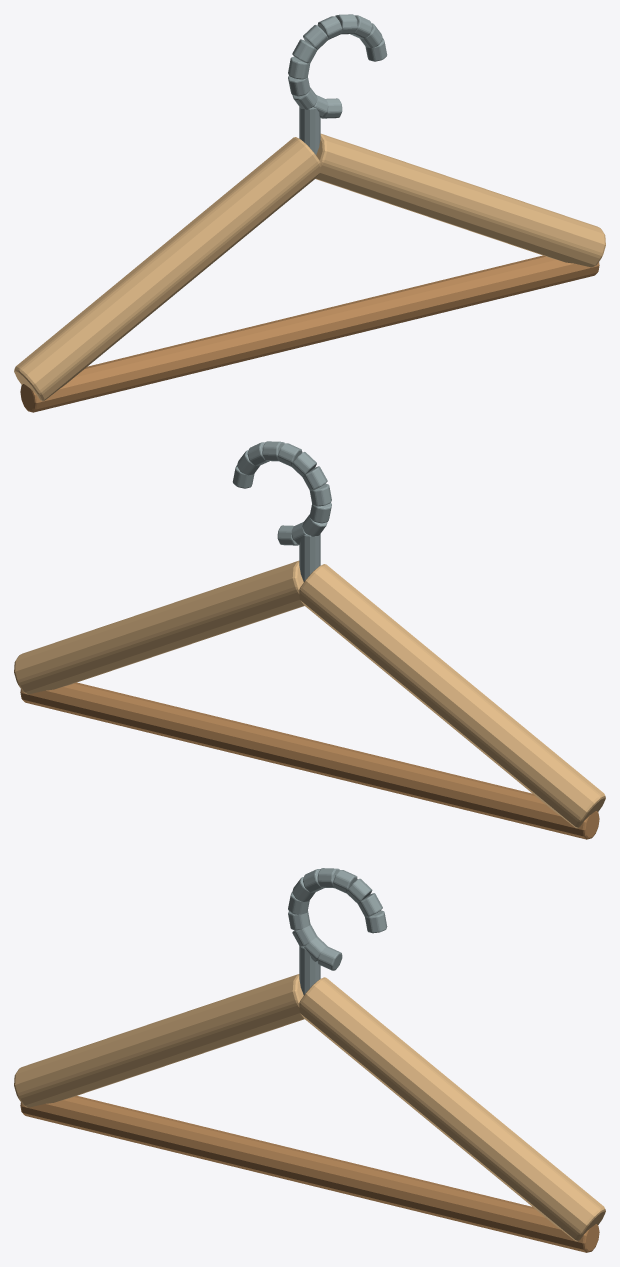
File: P091_costume_hanger.glb
3 renders of one model, top to bottom at view 1: azimuth 30°, elevation 25°; view 2: azimuth 150°, elevation 25°; view 3: azimuth 330°, elevation 25°, orthographic.
Parts seen in each view (by area): view 1: P091_bottom_003, P091_left_arm_001, P091_right_arm_002, P091_neck_004; view 2: P091_bottom_003, P091_left_arm_001, P091_right_arm_002, P091_neck_004; view 3: P091_bottom_003, P091_right_arm_002, P091_left_arm_001, P091_neck_004.
Part boxes in pixels (x1,y1,x2,y2): P091_bottom_003: (20,255,599,412); P091_left_arm_001: (14,137,320,401); P091_right_arm_002: (315,133,605,267); P091_neck_004: (299,107,320,154); P091_bottom_003: (20,682,599,839); P091_left_arm_001: (299,564,605,828); P091_right_arm_002: (14,560,304,694); P091_neck_004: (299,534,320,581); P091_bottom_003: (20,1096,599,1252); P091_right_arm_002: (299,977,605,1241); P091_left_arm_001: (14,974,304,1107); P091_neck_004: (299,946,320,994).
Bounding box in the file's own units: 0.3789 × 0.1995 × 0.0254.
